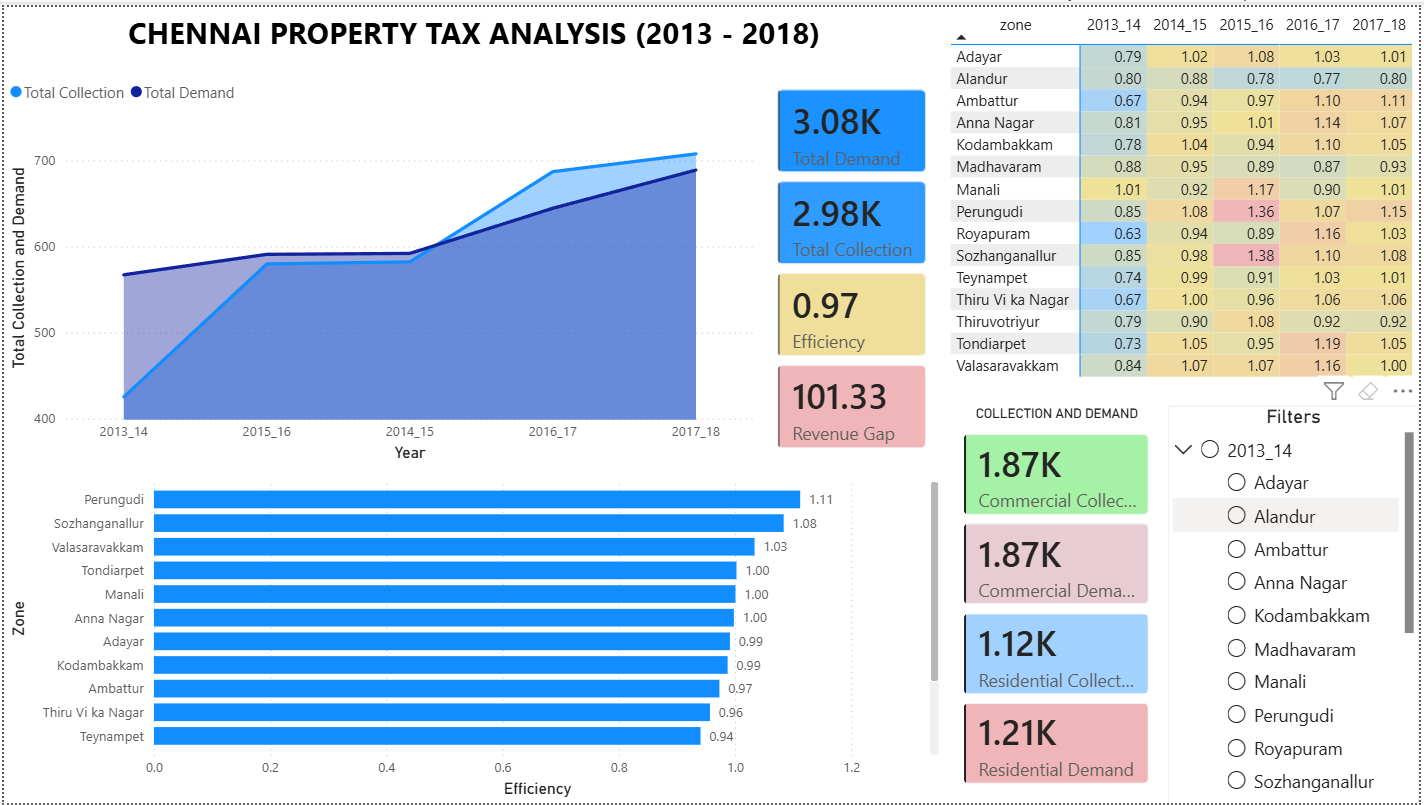

What the dashboard file says about the page in this screenshot:
{"tool":"powerbi","page":{"name":"Page 1","canvas":[1280,720],"ordinal":0},"visuals":[{"type":"areaChart","fields":{"Y":["clean_property_tax.Total Collection","clean_property_tax.Total Demand"],"Category":["clean_property_tax.year"]},"box":[0,56.9,682.8,359.5],"z":0},{"type":"pivotTable","fields":{"Rows":["clean_property_tax.zone"],"Columns":["clean_property_tax.year"],"Values":["clean_property_tax.Effic"]},"box":[850.9,0,429.4,358.9],"z":1000},{"type":"barChart","fields":{"Category":["clean_property_tax.zone"],"Y":["clean_property_tax.Effic"]},"box":[0,416.4,850.9,303.9],"z":2000},{"type":"listSlicer","title":"Filters","fields":{"Values":["clean_property_tax.year","clean_property_tax.zone"]},"box":[1052.7,360.8,227.6,359.5],"z":3000},{"type":"cardVisual","fields":{"Data":["clean_property_tax.Total Demand","clean_property_tax.Total Collection","clean_property_tax.Effic","clean_property_tax.Revenue Gap"]},"box":[682.5,57.4,168.4,361.5],"z":4000},{"type":"textbox","box":[0,0,850.9,57.4],"z":5000},{"type":"cardVisual","title":"COLLECTION AND DEMAND","fields":{"Data":["Sum(clean_property_tax.com_collection)","Sum(clean_property_tax.com_demand)","Sum(clean_property_tax.res_collection)","Sum(clean_property_tax.res_demand)"]},"box":[850.9,360.8,201.7,359.5],"z":6000}]}

Visuals, with their boxes in screenshot pixels (x1, y1, x2, y2), scaled from the page's 1280x720 canvas onto the 1424x805 screenshot:
areaChart - clean_property_tax.Total Collection x clean_property_tax.Total Demand: BBox(0, 64, 760, 466)
pivotTable - clean_property_tax.zone x clean_property_tax.year: BBox(947, 0, 1423, 401)
barChart - clean_property_tax.zone x clean_property_tax.Effic: BBox(0, 466, 947, 804)
"Filters" listSlicer: BBox(1171, 403, 1423, 804)
cardVisual - clean_property_tax.Total Demand x clean_property_tax.Total Collection: BBox(759, 64, 947, 468)
textbox: BBox(0, 0, 947, 64)
"COLLECTION AND DEMAND" cardVisual: BBox(947, 403, 1171, 804)
